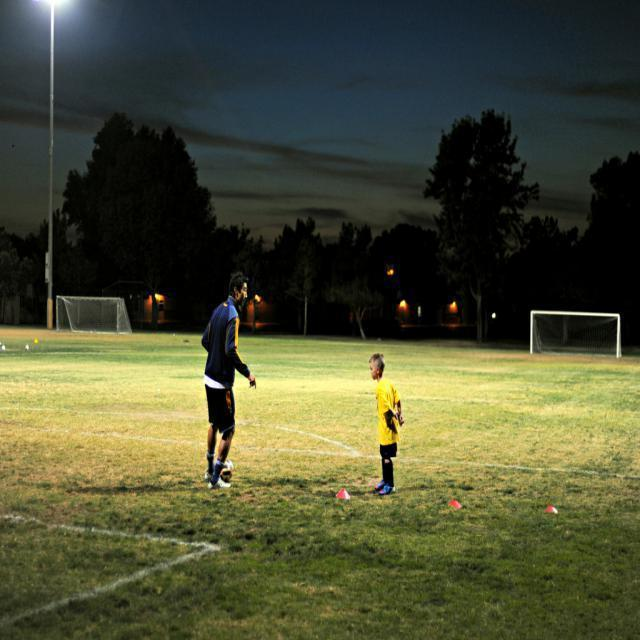ball: (221, 460, 235, 483)
